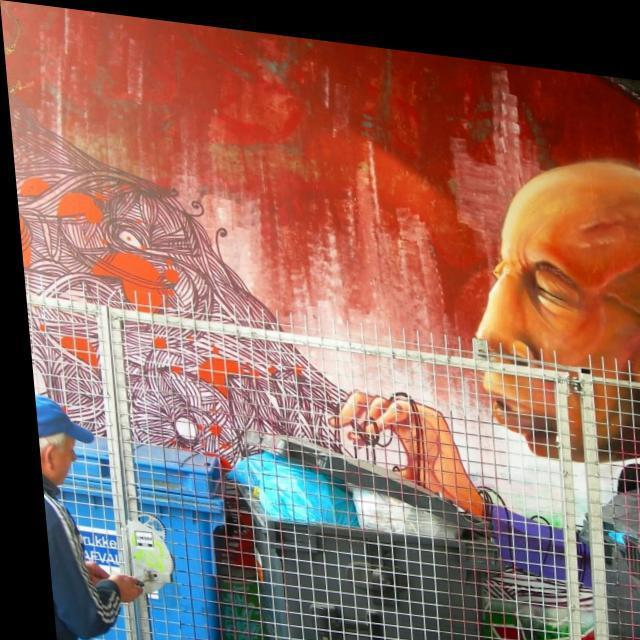-: (310, 115, 640, 602)
